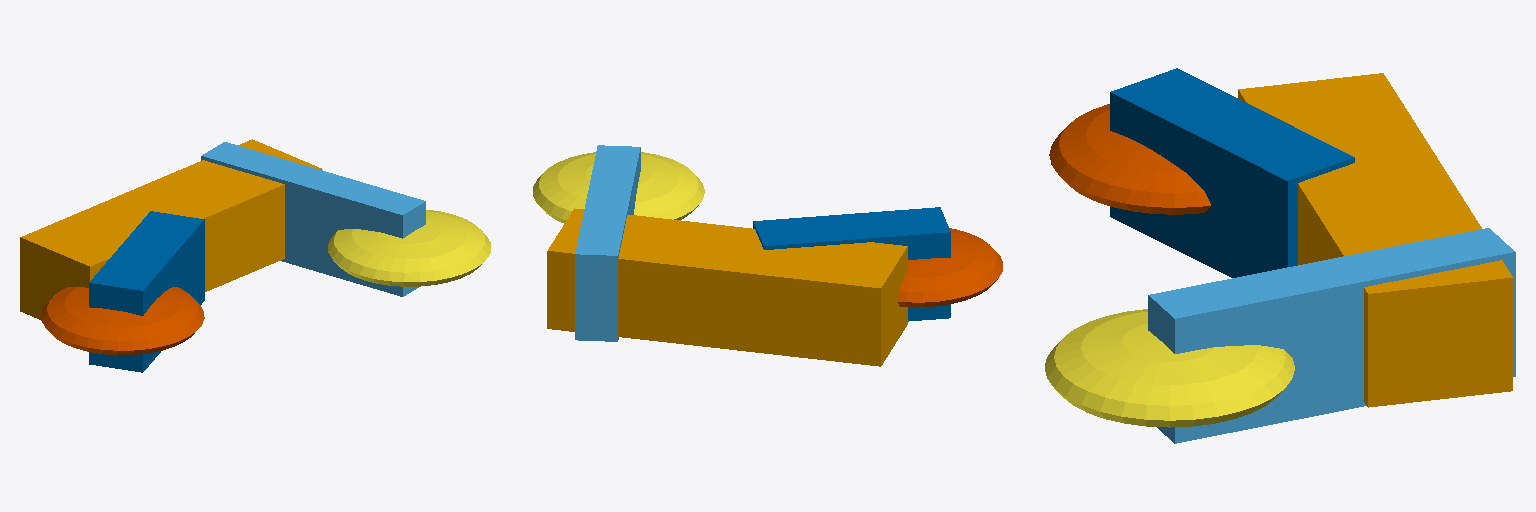
URDF robot description (sttw_source_contract):
<robot name="sttw_source_contract"><link name="chasis"><inertial><origin xyz="0 0 0" rpy="0 0 0" /><mass value="2.6709" /><inertia ixx="0.002576899237716139" iyy="0.006717399205490904" izz="0.007323301556792965" ixy="-0.0010382994717121627" ixz="-6.738700644442851e-05" iyz="-2.9357445489999094e-05" /></inertial><collision><origin xyz="0 0.01 0" rpy="0 -0 0.26200065305629355" /><geometry><box size="0.40000000000000002 0.12 0.10000000000000001" /></geometry></collision><visual><origin xyz="0 0.01 0" rpy="0 -0 0.26200065305629355" /><geometry><box size="0.40000000000000002 0.12 0.10000000000000001" /></geometry></visual></link><link name="frontfork"><inertial><origin xyz="0.015592999999999999 -0.028725000000000001 0" rpy="0 0 0" /><mass value="0.60059" /><inertia ixx="0.0006527803125101705" iyy="0.00031547968748982914" izz="0.0004482599999999998" ixy="3.1108087729306906e-06" ixz="0.0" iyz="0.0" /></inertial><collision><origin xyz="0.02 -0.059999999999999998 0" rpy="0 -0 0" /><geometry><box size="0.050000000000000003 0.29999999999999999 0.11" /></geometry></collision><visual><origin xyz="0.02 -0.059999999999999998 0" rpy="0 -0 0" /><geometry><box size="0.050000000000000003 0.29999999999999999 0.11" /></geometry></visual></link><joint name="steering_joint" type="revolute"><parent link="chasis" /><child link="frontfork" /><origin xyz="0.13689000000000001 0.020893999999999999 0" rpy="0 -0 0.43632916471688082" /><axis xyz="0 1 0" /><limit effort="1000" velocity="1000" lower="-0.8" upper="0.8" /><dynamics damping="0" friction="0" /></joint><link name="frontsuspension"><inertial><origin xyz="0 0.012836 0" rpy="0 0 0" /><mass value="0.13737" /><inertia ixx="6.8261e-05" iyy="6.1561e-05" izz="1.4167e-05" ixy="0.0" ixz="0.0" iyz="0.0" /></inertial><collision><origin xyz="0 0.02 0" rpy="0 -0 0" /><geometry><box size="0.029999999999999999 0.050000000000000003 0.10000000000000001" /></geometry></collision><visual><origin xyz="0 0.02 0" rpy="0 -0 0" /><geometry><box size="0.029999999999999999 0.050000000000000003 0.10000000000000001" /></geometry></visual></link><joint name="frontsuspension_fixed" type="fixed"><parent link="frontfork" /><child link="frontsuspension" /><origin xyz="0.02 -0.20268 0" rpy="0 -0 0" /></joint><link name="frontwheel"><inertial><origin xyz="0 0 0" rpy="0 0 0" /><mass value="0.47237" /><inertia ixx="0.0010678" iyy="0.0010677" izz="0.002032" ixy="0.0" ixz="0.0" iyz="0.0" /></inertial><collision><origin xyz="0 0 0" rpy="0 -0 0" /><geometry><mesh filename="ellipsoid_0.1_0.1_0.025.obj" /></geometry></collision><visual><origin xyz="0 0 0" rpy="0 -0 0" /><geometry><mesh filename="ellipsoid_0.1_0.1_0.025.obj" /></geometry></visual></link><joint name="frontwheel_joint" type="continuous"><parent link="frontsuspension" /><child link="frontwheel" /><origin xyz="0 0 0" rpy="0 0 -0.43632916471688082" /><axis xyz="0 0 1" /><limit effort="1000" velocity="1000" /><dynamics damping="0" friction="0" /></joint><link name="rearsuspension"><inertial><origin xyz="-0.11047 -0.091964000000000004 0" rpy="0 0 0" /><mass value="0.83342" /><inertia ixx="0.000932891239514924" iyy="0.001050602340954752" izz="0.001595099419530325" ixy="-0.0005954418866728583" ixz="4.176125784751369e-07" iyz="3.218152647424885e-07" /></inertial><collision><origin xyz="-0.080000000000000002 -0.070000000000000007 0" rpy="0 -0 0.7000001648141263" /><geometry><box size="0.22 0.070000000000000007 0.11" /></geometry></collision><visual><origin xyz="-0.080000000000000002 -0.070000000000000007 0" rpy="0 -0 0.7000001648141263" /><geometry><box size="0.22 0.070000000000000007 0.11" /></geometry></visual></link><joint name="rearsuspension_joint" type="revolute"><parent link="chasis" /><child link="rearsuspension" /><origin xyz="-0.020438000000000001 -0.034414 0" rpy="0 -0 0" /><axis xyz="0 0 1" /><limit effort="1000" velocity="1000" lower="-0.05" upper="0.05" /><dynamics damping="0" friction="0" /></joint><link name="rearwheel"><inertial><origin xyz="0 0 0" rpy="0 0 0" /><mass value="0.71956" /><inertia ixx="0.0011423999999999996" iyy="0.0011425999999999995" izz="0.002173799999999999" ixy="0.0" ixz="0.0" iyz="0.0" /></inertial><collision><origin xyz="0 0 0" rpy="0 -0 0" /><geometry><mesh filename="ellipsoid_0.1_0.1_0.025.obj" /></geometry></collision><visual><origin xyz="0 0 0" rpy="0 -0 0" /><geometry><mesh filename="ellipsoid_0.1_0.1_0.025.obj" /></geometry></visual></link><joint name="rearwheel_joint" type="continuous"><parent link="rearsuspension" /><child link="rearwheel" /><origin xyz="-0.14050000000000001 -0.11609 0" rpy="0 -0 0" /><axis xyz="0 0 1" /><limit effort="1000" velocity="1000" /><dynamics damping="0" friction="0" /></joint></robot>

--- Render facts (derived) ---
Views: 3 orthographic renders of the robot side by side, from view 1: azimuth 30°, elevation 25°; view 2: azimuth 150°, elevation 25°; view 3: azimuth 270°, elevation 25°.
Model sttw_source_contract with 6 links and 5 joints (2 revolute, 2 continuous, 1 fixed), rooted at chasis, posed every joint at zero.
Visible links, largest first — view 1: chasis, frontfork, rearsuspension, frontwheel, rearwheel; view 2: chasis, frontfork, rearsuspension, frontwheel, rearwheel; view 3: chasis, frontfork, rearsuspension, frontwheel, rearwheel.
Boxes of the visible links, left/top/right/bottom form: chasis: left=20, top=139, right=321, bottom=319; frontfork: left=201, top=142, right=425, bottom=296; rearsuspension: left=89, top=211, right=204, bottom=372; frontwheel: left=328, top=210, right=490, bottom=286; rearwheel: left=41, top=287, right=204, bottom=354; chasis: left=547, top=208, right=907, bottom=366; frontfork: left=575, top=145, right=640, bottom=341; rearsuspension: left=753, top=207, right=950, bottom=321; frontwheel: left=533, top=152, right=704, bottom=223; rearwheel: left=898, top=228, right=1002, bottom=306; chasis: left=1238, top=73, right=1512, bottom=407; frontfork: left=1148, top=228, right=1515, bottom=443; rearsuspension: left=1110, top=68, right=1354, bottom=277; frontwheel: left=1045, top=309, right=1294, bottom=427; rearwheel: left=1049, top=104, right=1210, bottom=214.
Bounding box of the posed robot: 0.6016 × 0.3758 × 0.11 m (x, y, z).
Meshes: 1 distinct files referenced, 2 mesh visuals loaded (1 OBJ).
